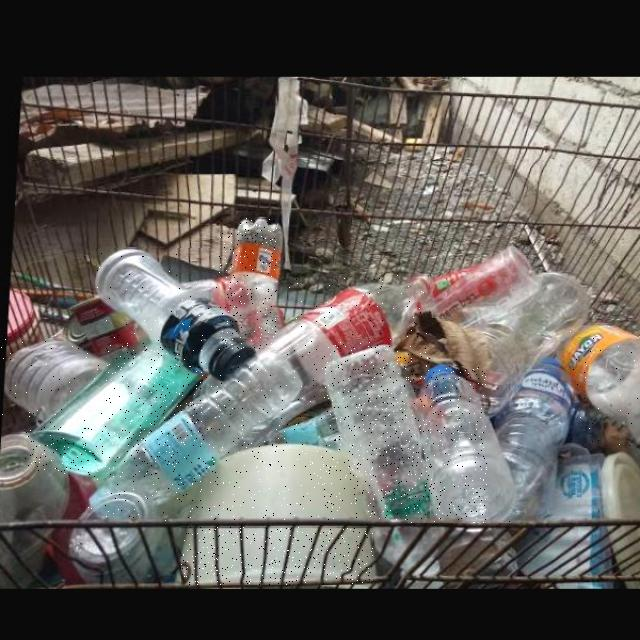plastic: (87, 352, 299, 521), (253, 275, 429, 424), (25, 343, 203, 476), (90, 248, 252, 381), (322, 345, 430, 519), (409, 366, 512, 522), (487, 360, 571, 515), (197, 444, 363, 518), (181, 527, 373, 585), (557, 324, 639, 446), (1, 334, 106, 425), (221, 218, 277, 349)
